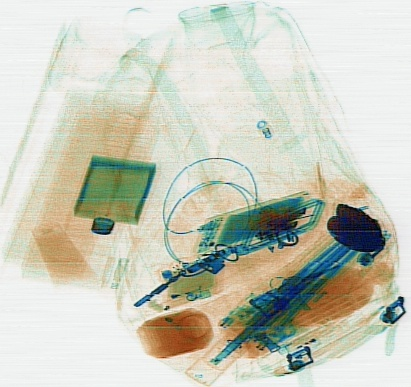lighter: (274, 320, 339, 358)
